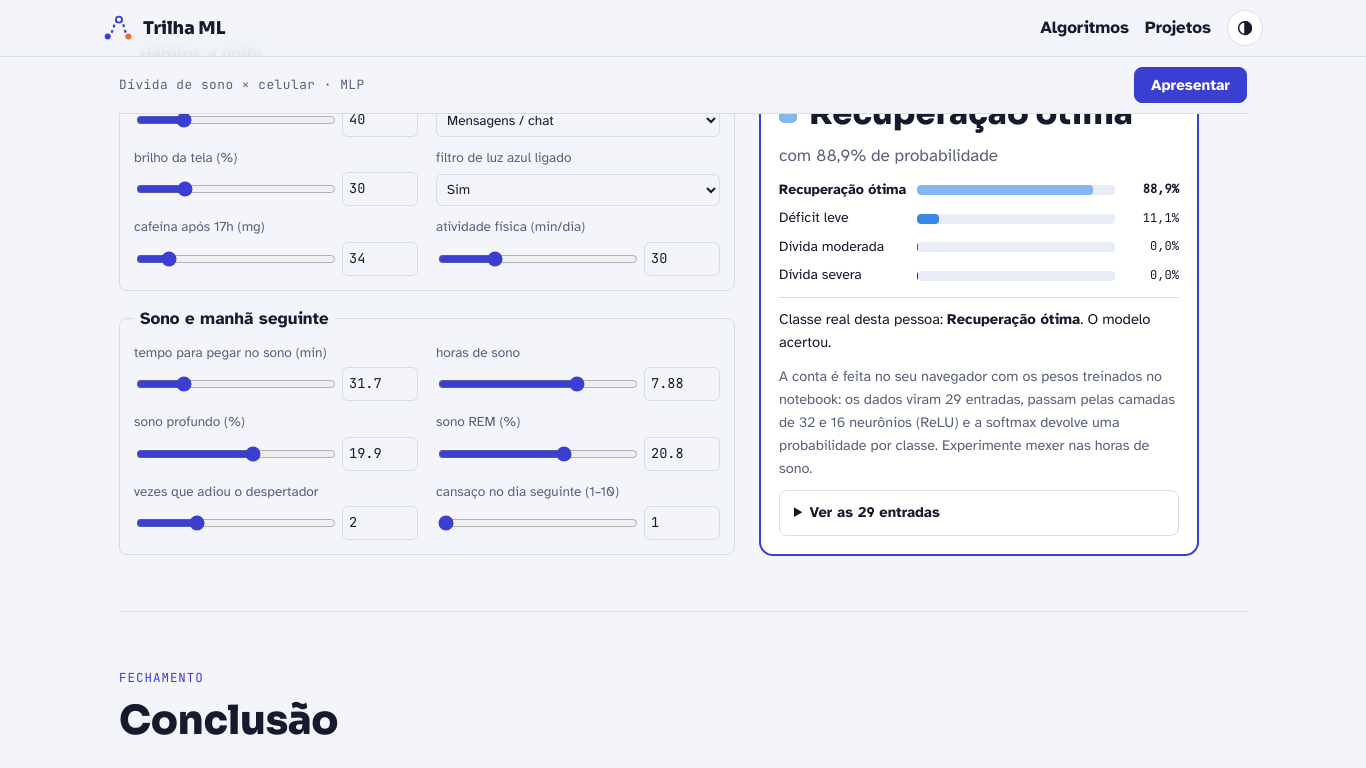
apresentação do trabalho › a seção de teste mostra a previsão e reage ao formulário
The image size is (1366, 768).
(page scrolled)
Expected: the text "Classe real desta pessoa" is shown, x1=779 y1=309 x2=947 y2=327
Expected: the text "Recuperação ótima" is shown, x1=779 y1=96 x2=1179 y2=131
Step 1. Set the slider named "horas de sono" to "3.2" → (446, 384), box x1=438 y1=376 x2=638 y2=392
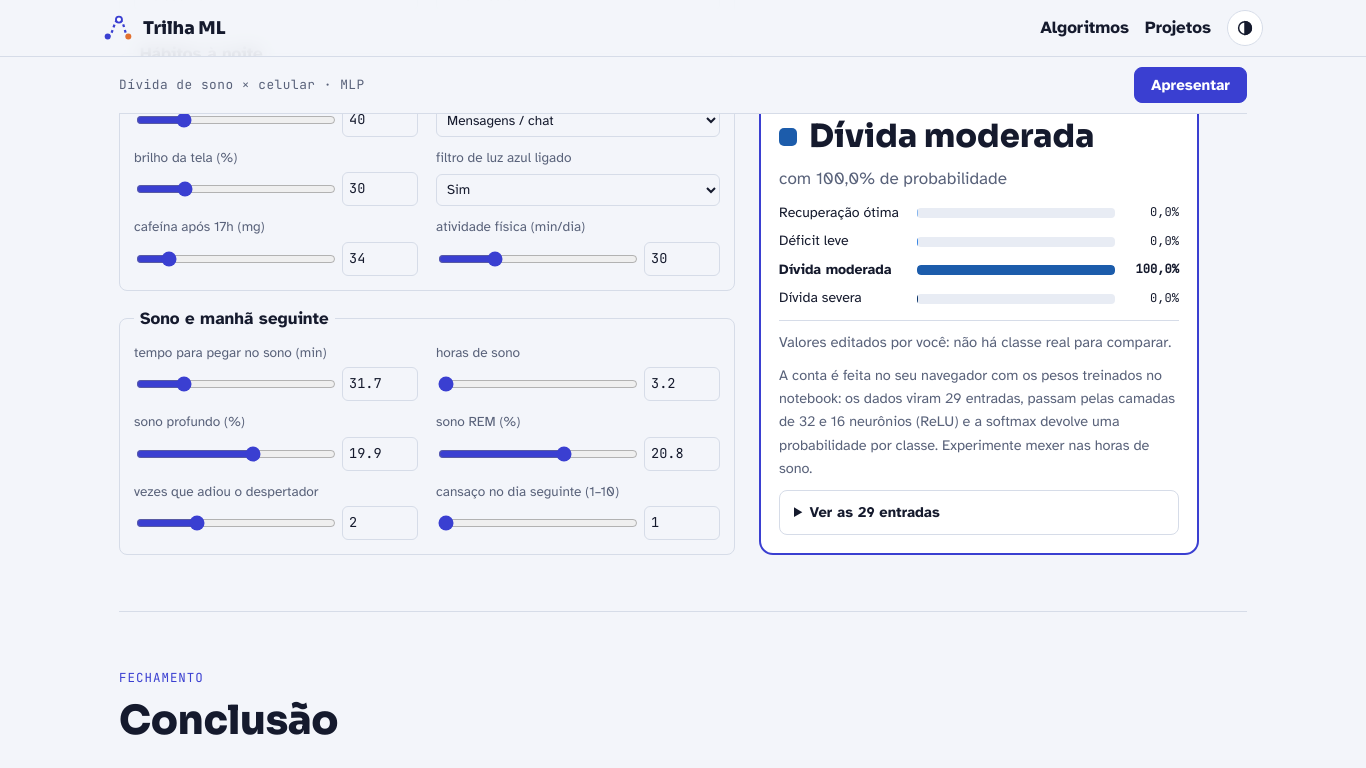
Result: the text "Valores editados por você: não há classe real para comparar." is shown at x1=779 y1=320 x2=1179 y2=354
